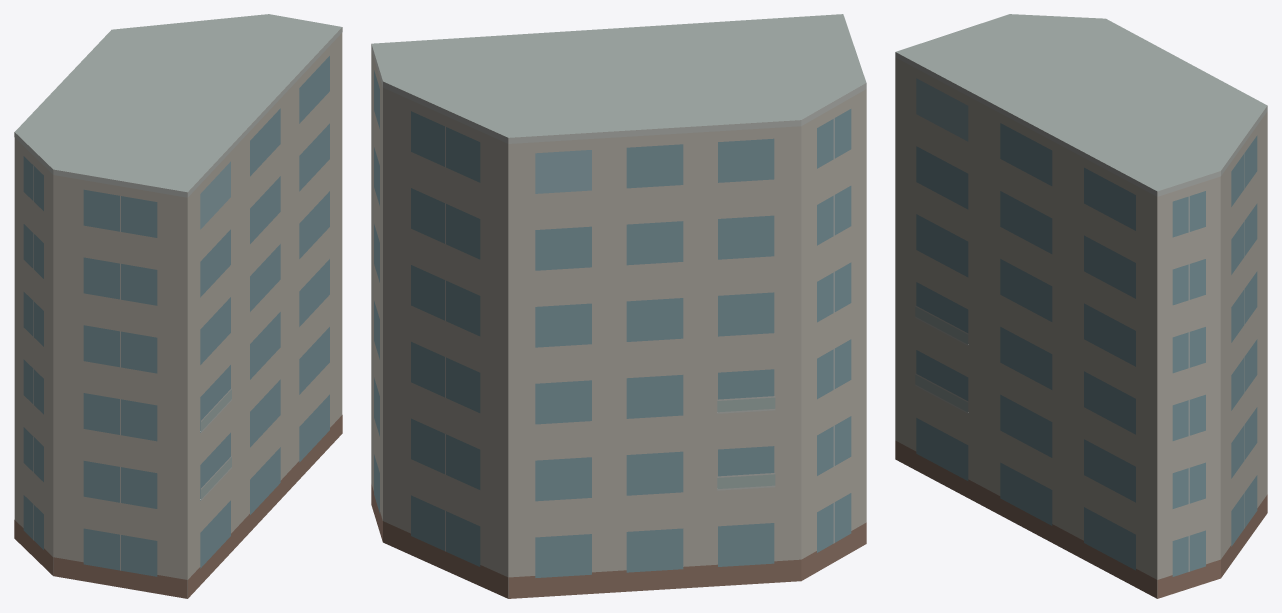
Rendered from survey-upis-32701771.glb.
The picture shows the model from 3 angles, left to right: view 1: azimuth 30°, elevation 25°; view 2: azimuth 150°, elevation 25°; view 3: azimuth 270°, elevation 25°; orthographic projection. The views are drawn at different scales.
Visible parts, largest first — view 1: survey-upis-32701771.tmp; view 2: survey-upis-32701771.tmp; view 3: survey-upis-32701771.tmp.
Boxes of the visible parts, left/top/right/bottom form: survey-upis-32701771.tmp: left=14, top=14, right=342, bottom=598; survey-upis-32701771.tmp: left=371, top=14, right=866, bottom=598; survey-upis-32701771.tmp: left=895, top=14, right=1267, bottom=598.
Bounding box in the file's own units: 17.1 × 18.3 × 15.16.
